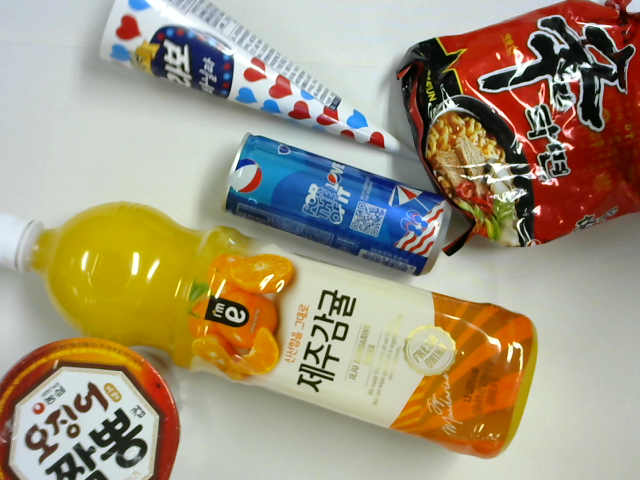Bravo_Cone_(Banila)_CVS: (95, 1, 424, 162)
Jeju_Tangerine_1.5L: (1, 200, 535, 460)
Ojjam: (1, 338, 183, 480)
Pepsi_Cola_Can_250ml: (221, 135, 449, 277)
Sinramen: (394, 1, 640, 259)
